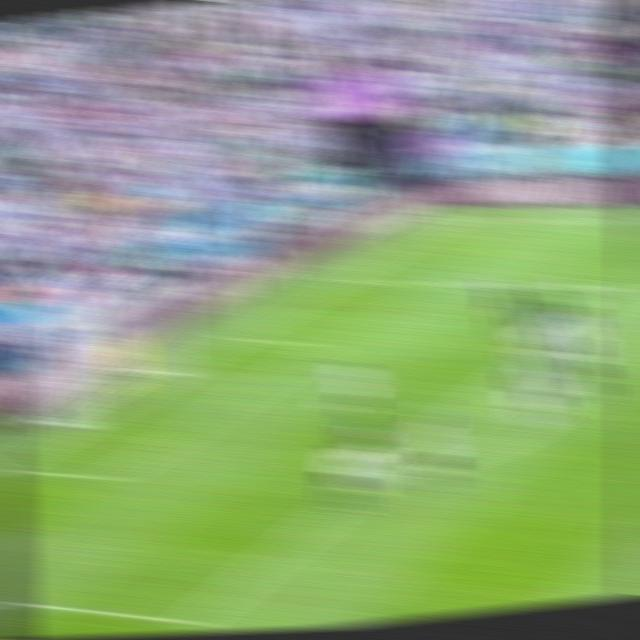bigarea_bottom_inner: (172, 606, 212, 634)
bigarea_top_inner: (611, 279, 640, 296)
bigarea_top_outter: (326, 273, 355, 285)
corner: (432, 215, 462, 225)
smallarea_bottom_inner: (92, 461, 130, 492)
smallarea_top_inner: (310, 335, 342, 354)
smallarea_top_outter: (221, 329, 252, 346)
